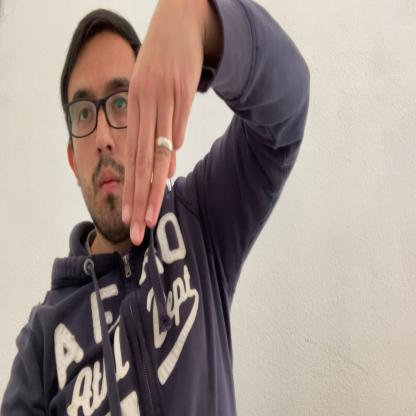M: (122, 9, 204, 247)
